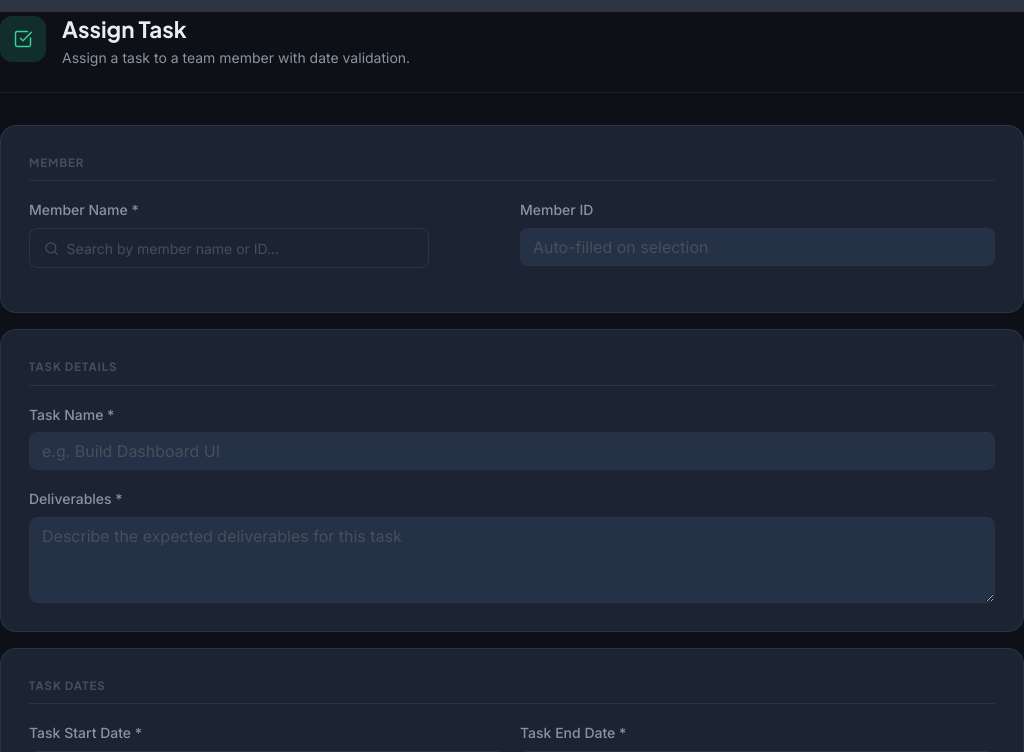
Test case: AssignTaskPage › should show project end date hint when a member is selected
The width and height of the screenshot is (1024, 752).
Type "Alice" into the field with placeholder "Search by member name or ID…" at x=240, y=248, box [67,229,414,267]
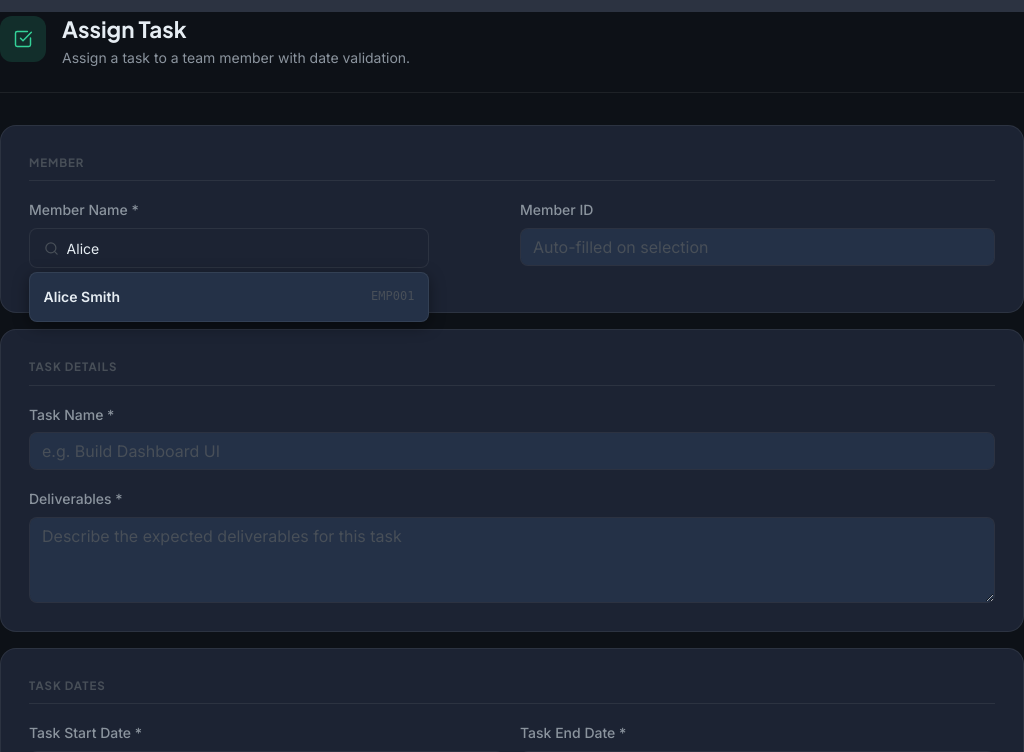
Press the mouse on the text "Alice Smith" at x=82, y=297, box [44,286,120,308]
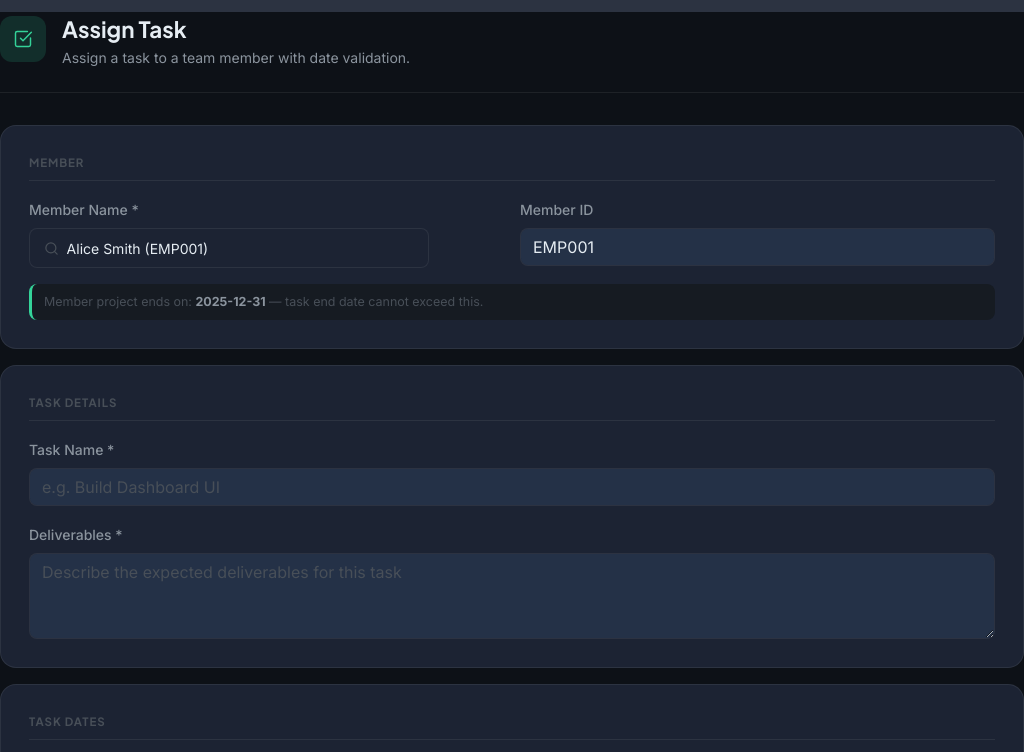
expect the text "Member project ends on" is shown: met, box [44,294,192,309]
